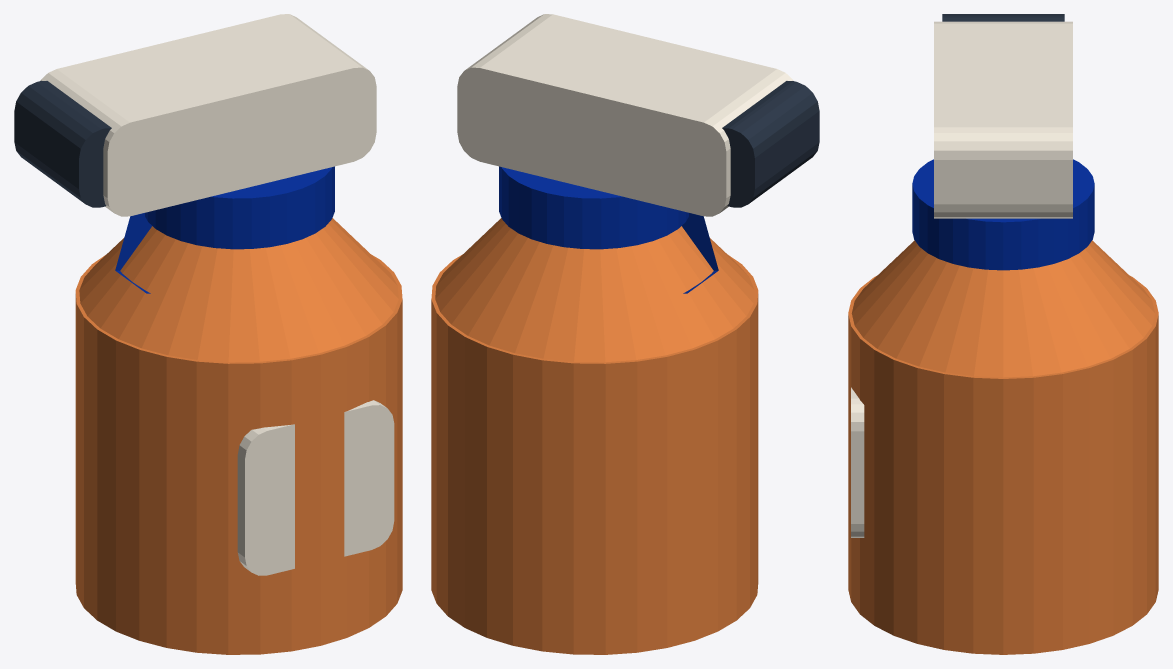
The model's file is lensbottle.glb.
3 views of the same model, side by side, from view 1: azimuth 30°, elevation 25°; view 2: azimuth 150°, elevation 25°; view 3: azimuth 270°, elevation 25° (orthographic). The views are drawn at different scales.
Parts seen in each view (by area): view 1: bottle, sprayer, shoulder, label, collar, nozzle, trigger; view 2: bottle, sprayer, shoulder, collar, nozzle, trigger; view 3: bottle, shoulder, sprayer, collar, label, nozzle.
Boxes of the visible parts, x1,y1,x2,y2 form: bottle: (75,255,402,654); sprayer: (40,14,376,216); shoulder: (79,218,398,362); label: (237,400,394,575); collar: (145,166,334,249); nozzle: (14,81,111,207); trigger: (115,213,151,293); bottle: (431,255,758,654); sprayer: (457,14,793,216); shoulder: (435,218,754,362); collar: (499,166,688,249); nozzle: (722,81,819,207); trigger: (682,213,718,293); bottle: (848,276,1158,654); shoulder: (851,240,1155,377); sprayer: (934,21,1072,218); collar: (912,159,1094,270); label: (851,387,864,537); nozzle: (942,14,1064,21).
Bounding box in the file's own units: 0.895 × 1.34 × 0.76.
